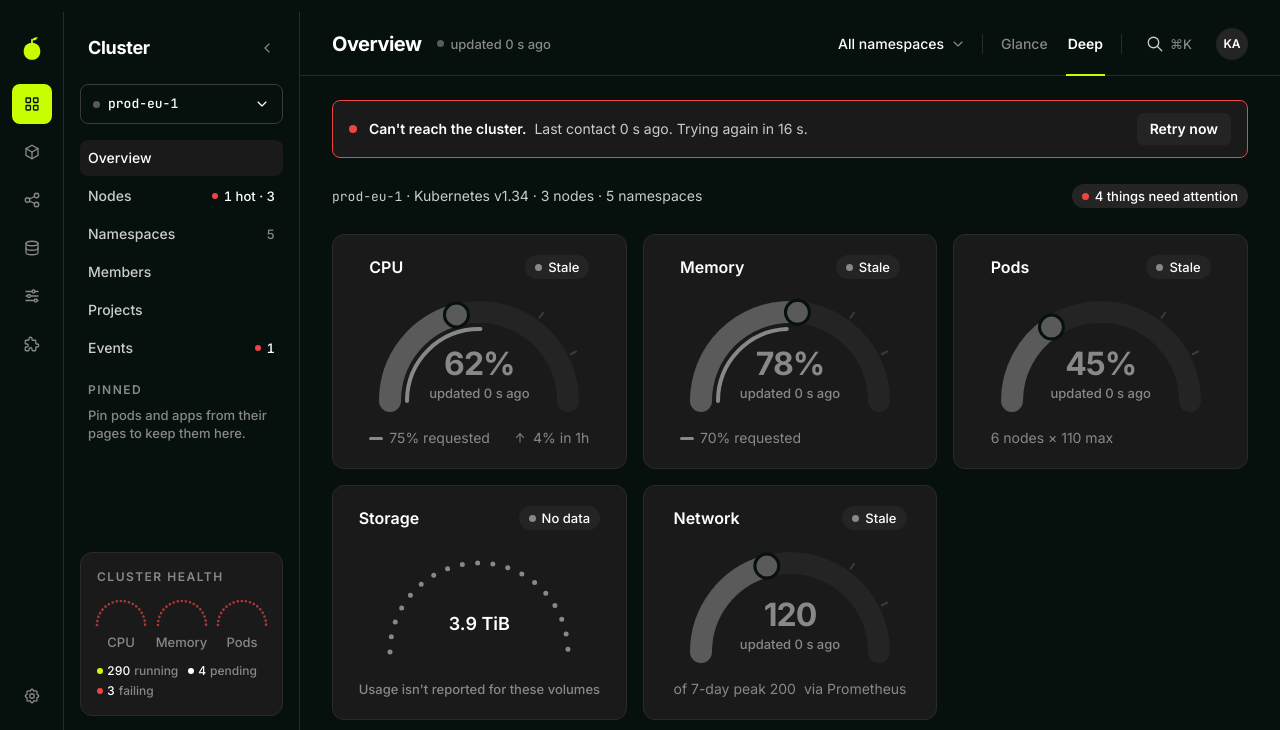
Test: Cluster unreachable › shows a banner with Retry, then stale gauges once it had data
Check: the element named "CPU" is shown, box [369,291,589,416]
Check: the message shows "Can't reach the cluster.", box [369,120,526,137]
Click the button "Retry now": (1184, 129) [1137,113,1231,145]
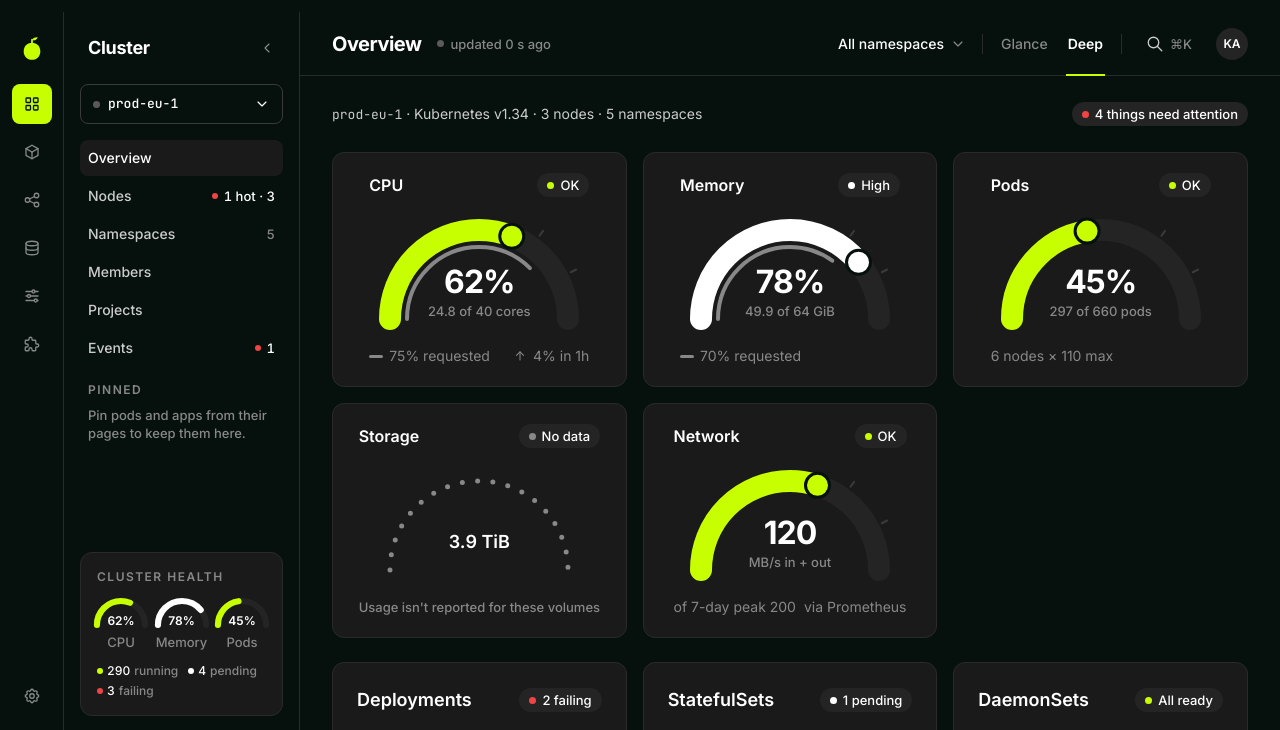
Check: the message "Can't reach the cluster. Last contact 0 s ago. Trying again in 16 s. Retry now" is gone
